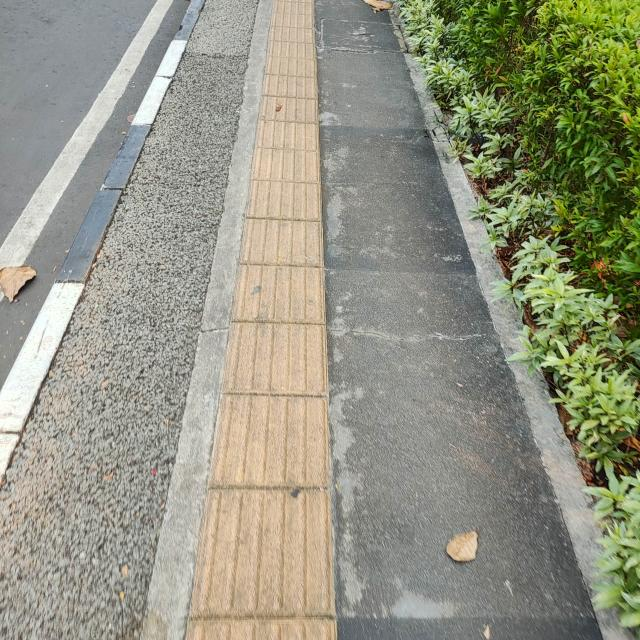lurus: (218, 0, 328, 640)
